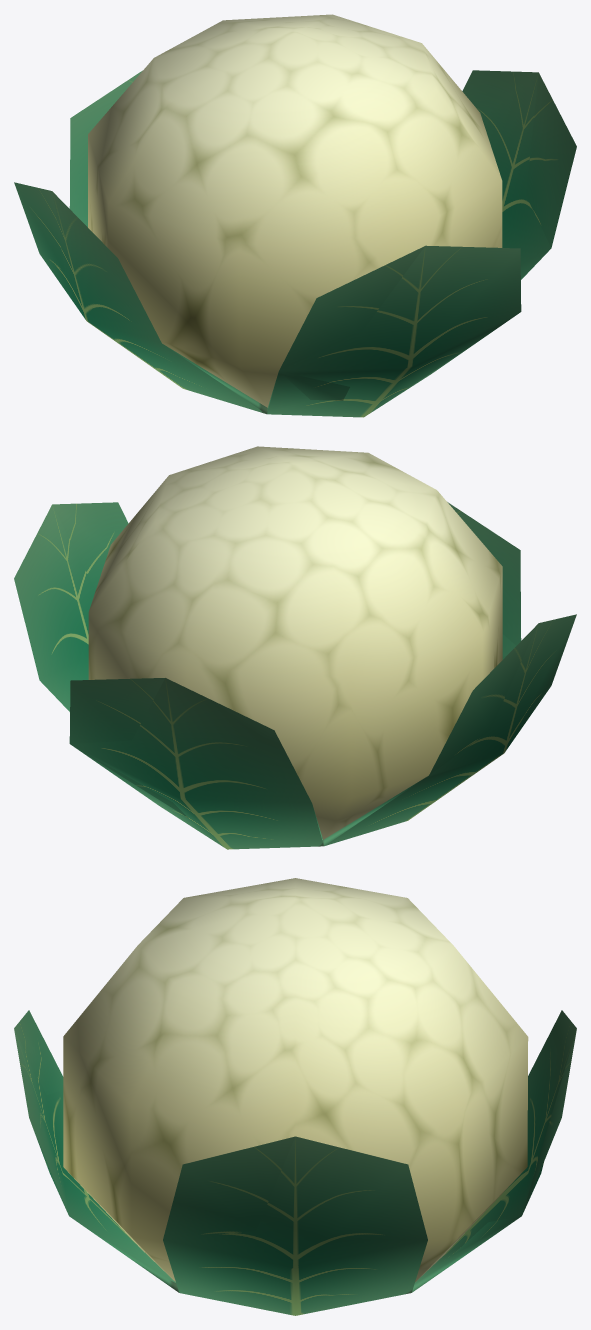
The model's file is Cauliflower.FBX.
3 renders of one model, top to bottom at view 1: azimuth 30°, elevation 25°; view 2: azimuth 150°, elevation 25°; view 3: azimuth 270°, elevation 25°, orthographic. The views are drawn at different scales.
Parts seen in each view (by area): view 1: Cauliflower; view 2: Cauliflower; view 3: Cauliflower.
Boxes of the visible parts, left/top/right/bottom form: Cauliflower: left=14, top=14, right=576, bottom=417; Cauliflower: left=14, top=446, right=576, bottom=849; Cauliflower: left=14, top=878, right=576, bottom=1315.
Bounding box in the file's own units: 16.49 × 10.84 × 15.26.
Materials: 1 (1 with a texture image).
